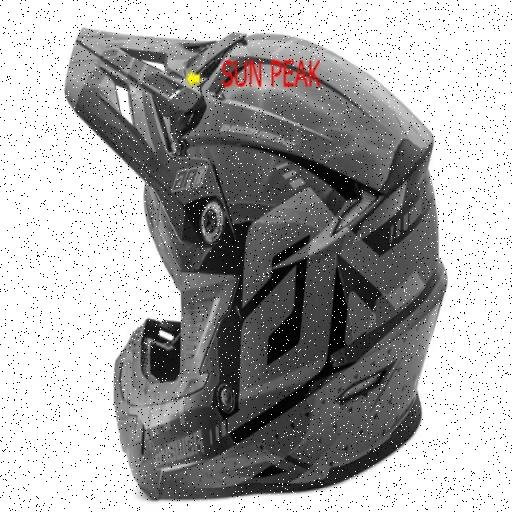Helmet: (66, 30, 446, 497)
